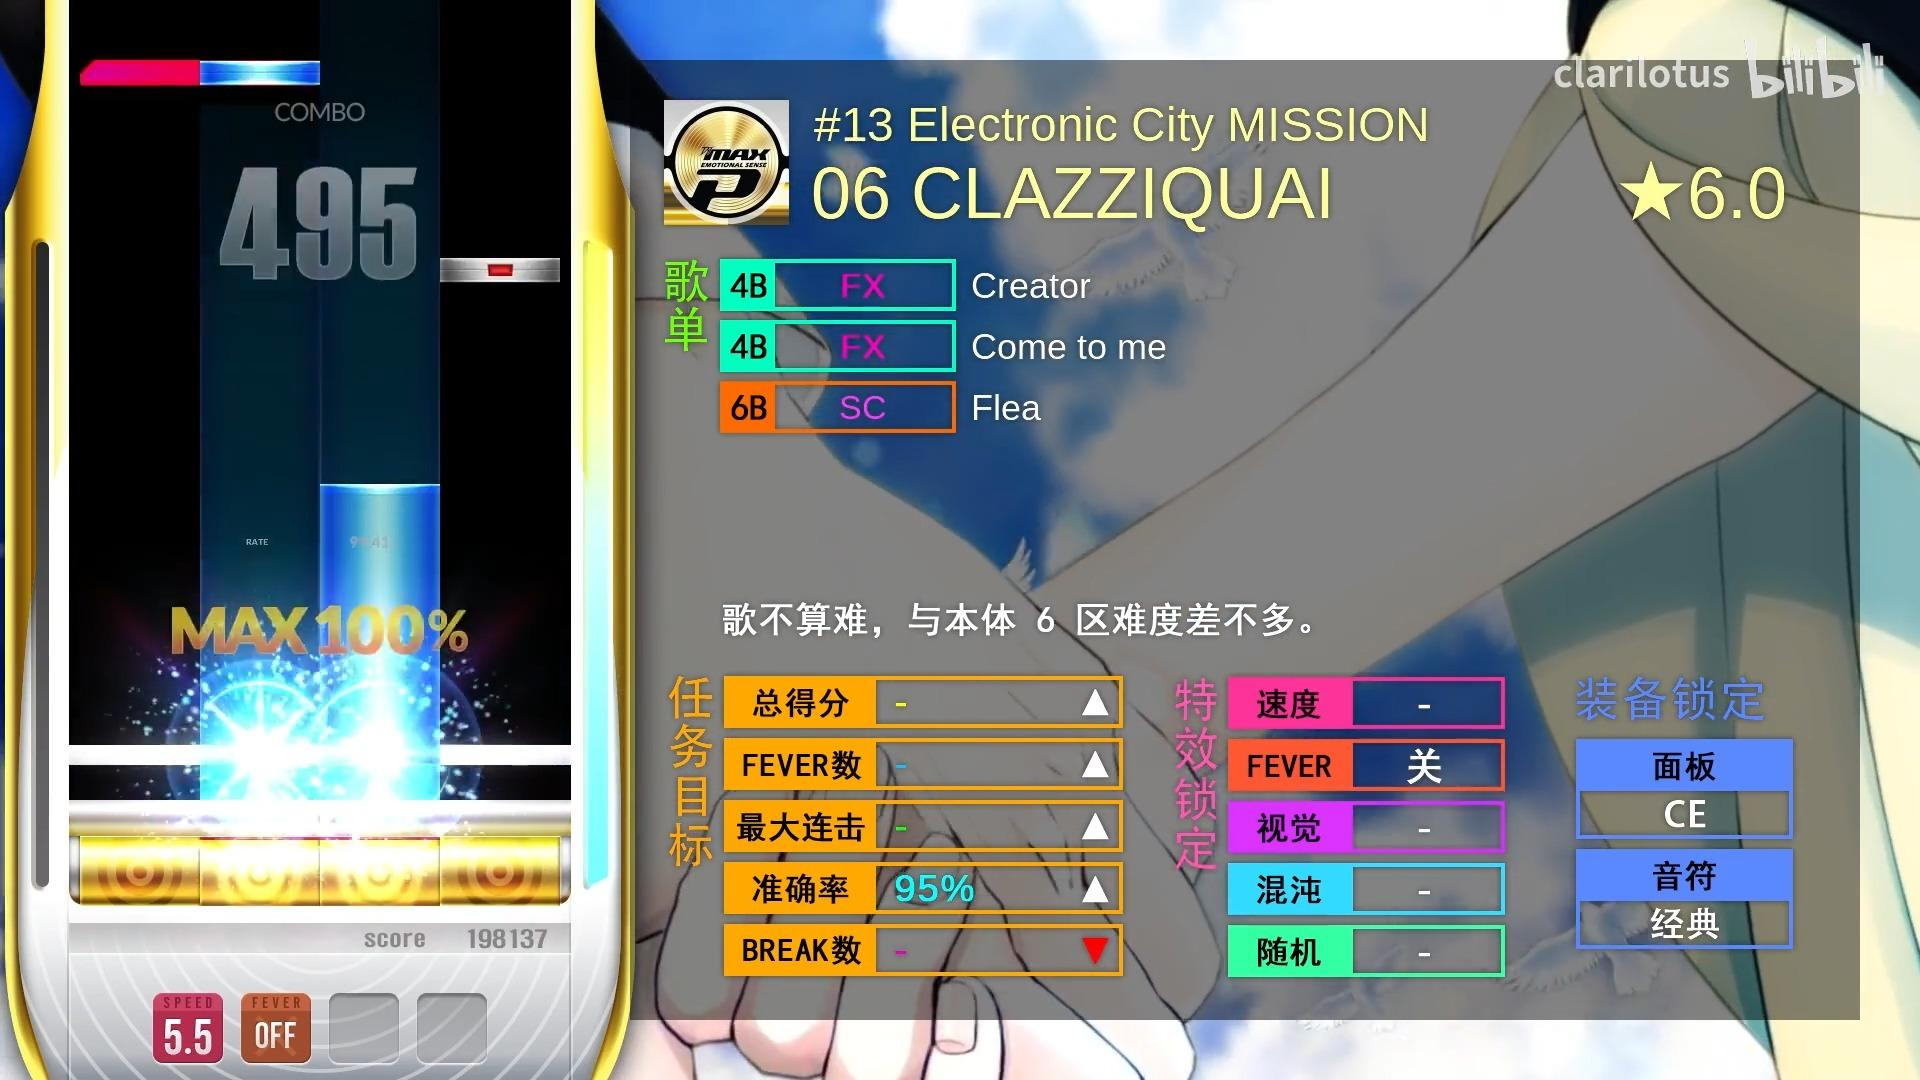hold-end: (319, 483, 440, 512)
note: (199, 61, 320, 86), (440, 258, 560, 284)
xnote: (80, 59, 320, 86)
